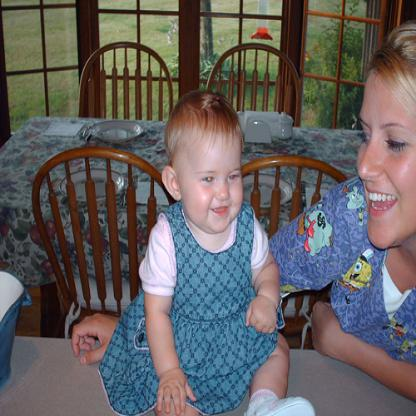chair: (30, 144, 176, 338), (228, 156, 349, 350), (205, 41, 301, 128), (77, 40, 173, 121)
diningtable: (0, 115, 415, 338)
